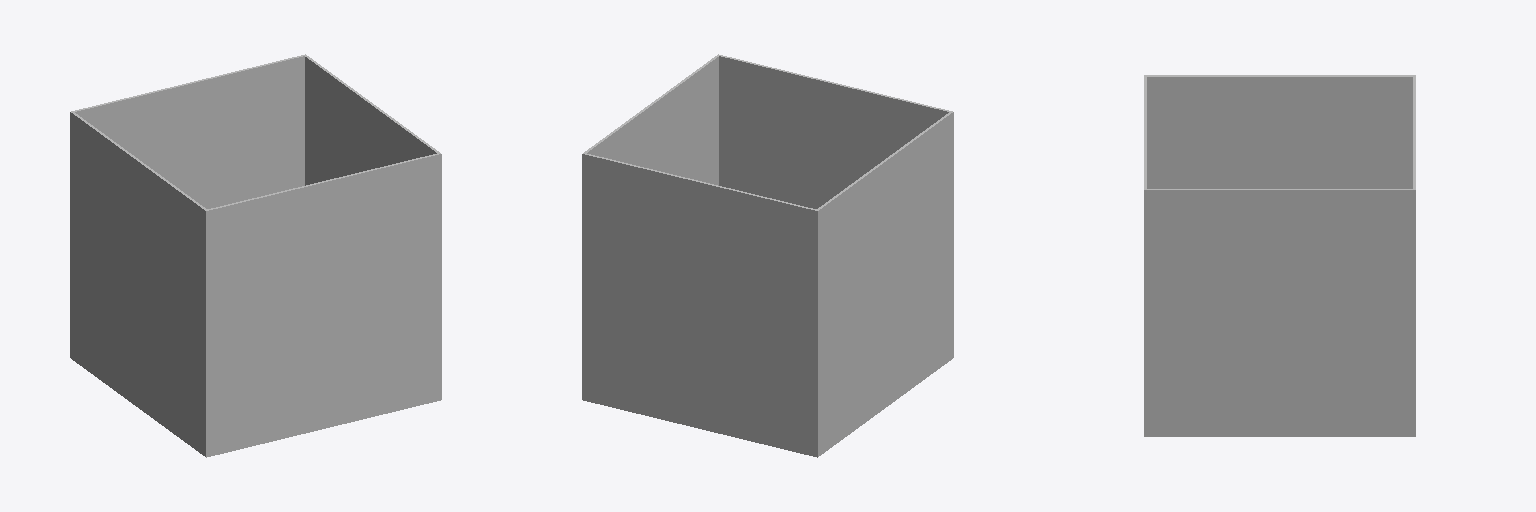
The model's file is waterWalls.obj.
The picture shows the model from 3 angles: view 1: azimuth 30°, elevation 25°; view 2: azimuth 150°, elevation 25°; view 3: azimuth 270°, elevation 25°; orthographic projection.
Visible parts, largest first — view 1: Cube.001; view 2: Cube.001; view 3: Cube.001.
Part boxes in pixels (x1,y1,x2,y2): Cube.001: (70,54,441,457); Cube.001: (582,54,953,457); Cube.001: (1144,75,1415,436).
Bounding box in the file's own units: 2.1 × 2.1 × 2.1.